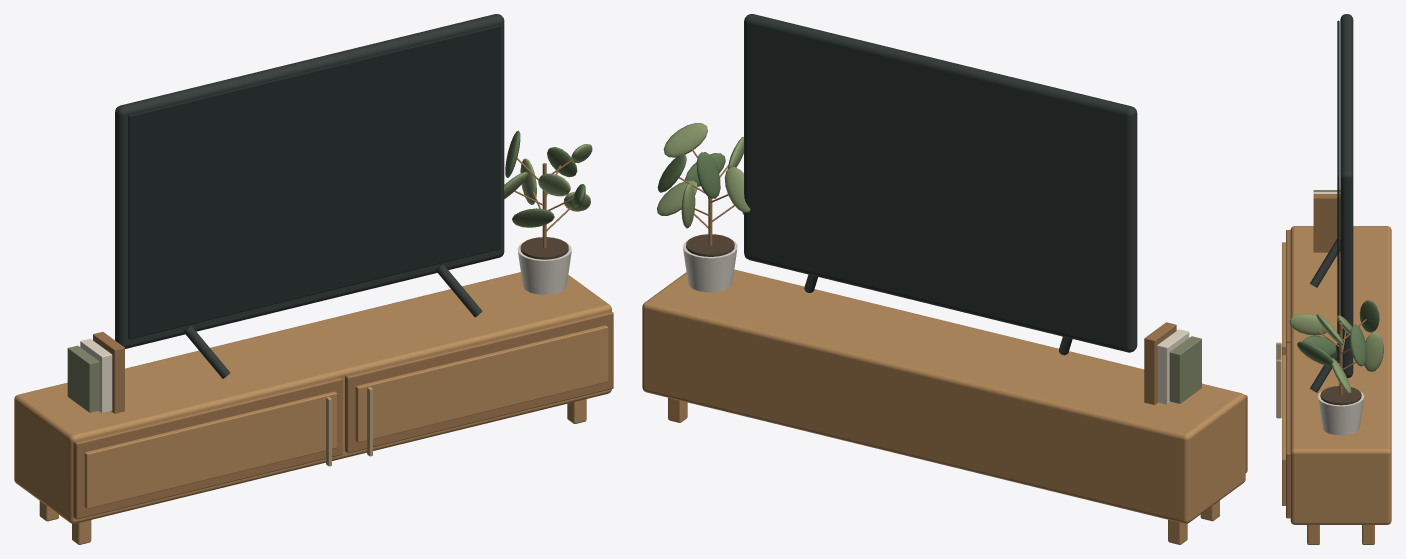
3 renders of one model, left to right at view 1: azimuth 30°, elevation 25°; view 2: azimuth 150°, elevation 25°; view 3: azimuth 270°, elevation 25°, orthographic. The views are drawn at different scales.
Parts seen in each view (by area): view 1: Television screen, Carcass, Oak door panel (×2), Recessed door (×2), Television frame, Cloth-bound book (×3), Matte ceramic planter, Pot soil; view 2: Television frame, Carcass, Cloth-bound book (×3), Leaf (×3), Matte ceramic planter, Pot soil; view 3: Carcass, Television frame, Leaf (×8), Cloth-bound book, Recessed door (×2), Matte ceramic planter, Oak door panel (×2), Television screen, TV stand (×2), Pot soil, Tapered leg (×2), Brass handle (+1 smaller).
Boxes of the visible parts, bbox=[...] form: Television screen: bbox=[128, 25, 500, 339]; Carcass: bbox=[14, 272, 611, 523]; Oak door panel (×2): bbox=[84, 325, 608, 508]; Recessed door (×2): bbox=[73, 310, 613, 519]; Television frame: bbox=[115, 14, 504, 348]; Cloth-bound book (×3): bbox=[67, 332, 124, 413]; Matte ceramic planter: bbox=[517, 242, 571, 294]; Pot soil: bbox=[520, 237, 568, 259]; Television frame: bbox=[744, 14, 1137, 352]; Carcass: bbox=[642, 269, 1245, 523]; Cloth-bound book (×3): bbox=[1144, 322, 1201, 404]; Leaf (×3): bbox=[663, 123, 750, 212]; Matte ceramic planter: bbox=[683, 240, 737, 292]; Pot soil: bbox=[686, 234, 734, 256]; Carcass: bbox=[1290, 226, 1391, 524]; Television frame: bbox=[1340, 14, 1353, 377]; Leaf (×8): bbox=[1289, 300, 1383, 393]; Cloth-bound book: bbox=[1313, 194, 1340, 252]; Recessed door (×2): bbox=[1286, 230, 1290, 518]; Matte ceramic planter: bbox=[1317, 390, 1364, 435]; Oak door panel (×2): bbox=[1282, 242, 1285, 505]; Television screen: bbox=[1337, 20, 1339, 362]; TV stand (×2): bbox=[1310, 239, 1340, 392]; Pot soil: bbox=[1320, 386, 1361, 405]; Tapered leg (×2): bbox=[1307, 525, 1374, 544]; Brass handle: bbox=[1276, 359, 1281, 418].
Bounding box in the file's own units: 1.88 × 1.33 × 0.399.
